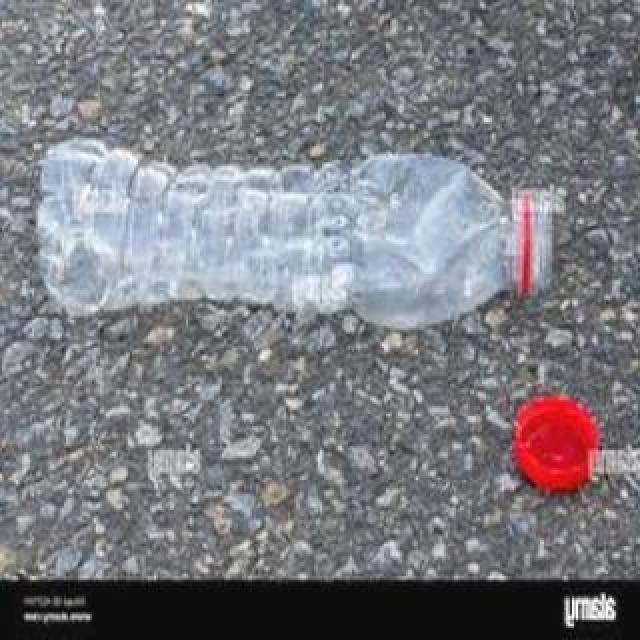Pet_Bottle: (35, 133, 571, 337)
